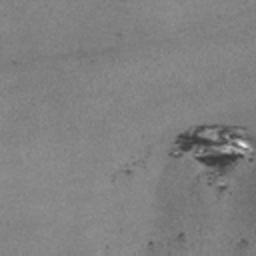Iron sheet ash: (175, 124, 255, 170)
